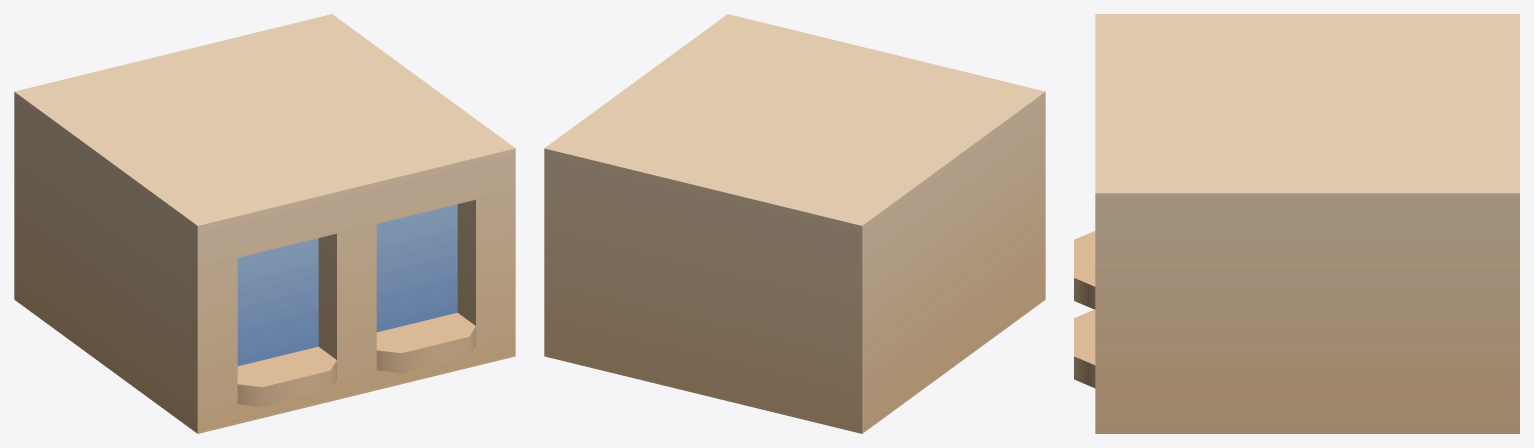
The model's file is building-windows-sills.glb.
3 views of the same model, side by side, from view 1: azimuth 30°, elevation 25°; view 2: azimuth 150°, elevation 25°; view 3: azimuth 270°, elevation 25° (orthographic). The views are drawn at different scales.
Visible parts, largest first — view 1: building-windows-sills; view 2: building-windows-sills; view 3: building-windows-sills.
Part boxes in pixels (x1,y1,x2,y2): building-windows-sills: [14, 14, 515, 433]; building-windows-sills: [544, 14, 1045, 433]; building-windows-sills: [1074, 14, 1519, 433].
Size of the model in its own units: 1 by 0.6251 by 1.05.
1 material, 1 textured.
